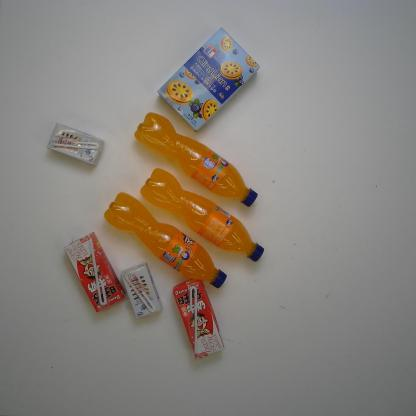Dessert: (155, 22, 262, 133)
Drink: (136, 163, 266, 267), (129, 108, 258, 208), (100, 191, 228, 290)
Milk: (59, 229, 127, 315), (167, 275, 227, 363), (118, 262, 163, 324), (44, 123, 107, 167)
